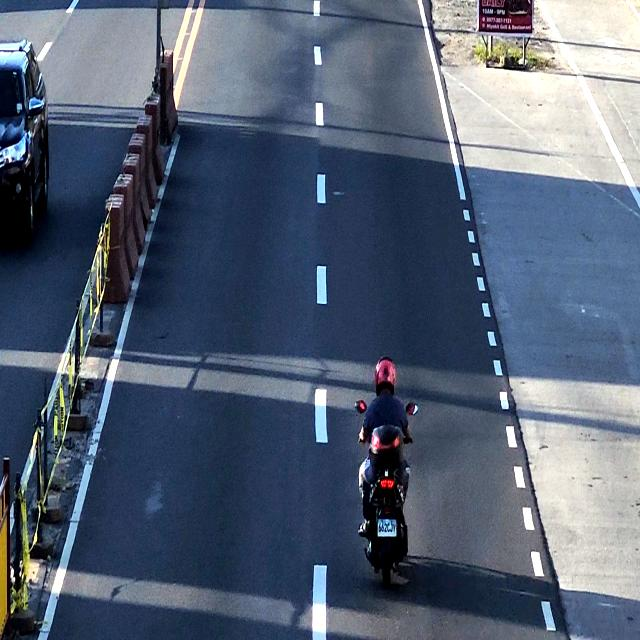License-Plate: (378, 521, 397, 541)
Motorcycle: (364, 354, 408, 586)
